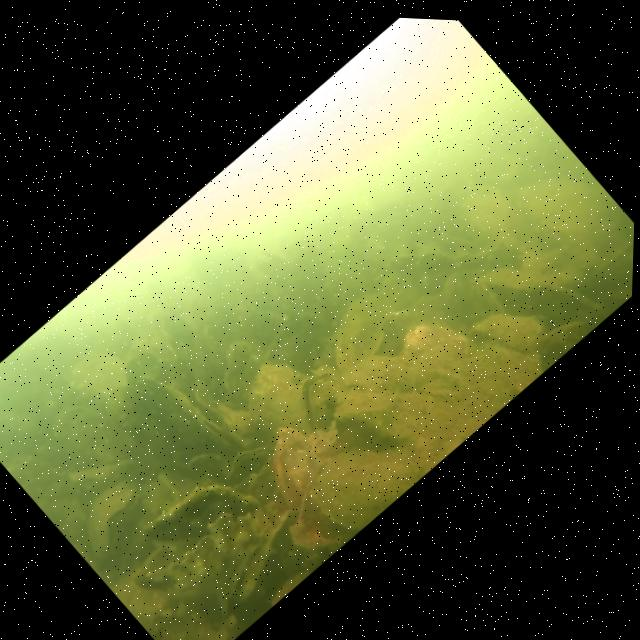Oyster-Closed: (245, 416, 343, 516), (210, 392, 275, 459), (220, 431, 283, 494), (531, 310, 591, 369)
Oyster-Indeterminate: (137, 480, 302, 640), (93, 355, 240, 506), (135, 454, 266, 585), (477, 229, 605, 359), (298, 421, 420, 544), (226, 346, 338, 460), (309, 281, 412, 384), (470, 289, 553, 373)
Oyster-Open: (66, 470, 157, 561), (283, 361, 367, 447), (193, 405, 245, 459)
